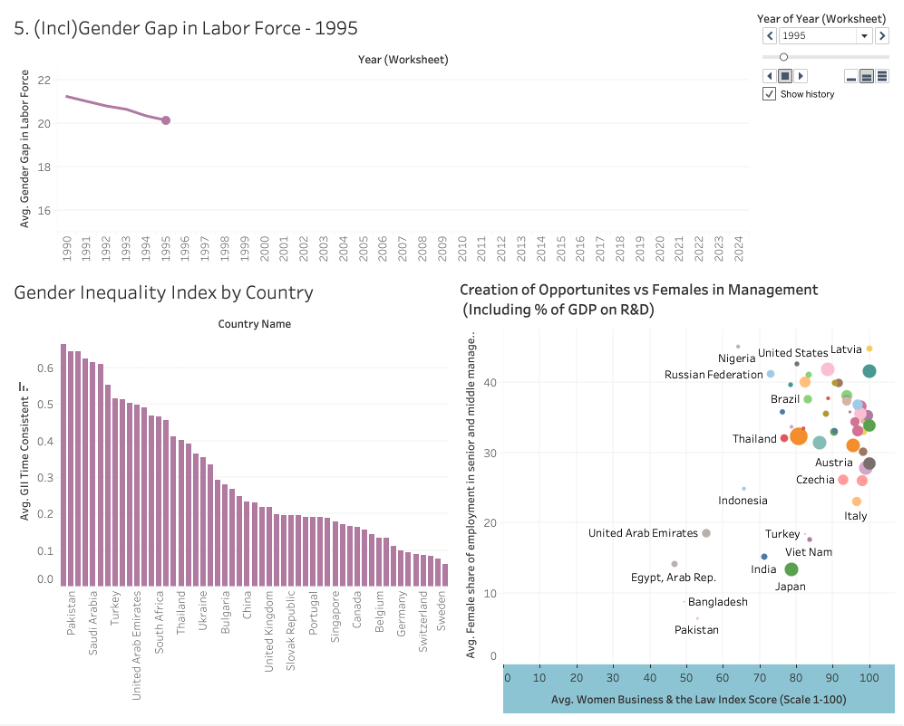

Layout of this report page (visuals, bound fields, positions):
{"tool":"tableau","page":{"name":"Inclusion","canvas":[1000,800],"ordinal":0},"visuals":[{"type":"worksheet","title":"5. (Incl)Gender Gap in Labor Force","mark":"Circle","rows":["Calculation_5399693319061507"],"cols":["Year (Worksheet)"],"box":[8,8,824,292]},{"type":"currpage","title":"5. (Incl)Gender Gap in Labor Force","box":[832,8,160,292]},{"type":"worksheet","title":"6. (Incl)GII by Country","mark":"Automatic","rows":["GII Time Consistent"],"cols":["Country Name"],"box":[8,300,492,492]},{"type":"worksheet","title":"7. (Incl)Bus & Law index vs Females in Man, Including % of GDP on R&D","mark":"Automatic","rows":["Calculation_5399693325979653"],"cols":["Calculation_5399693328379910"],"box":[500,300,492,492]}]}

Visuals, with their boxes in screenshot pixels (x1, y1, x2, y2), scaled from the page's 1000x800 canvas onto the 904x726 screenshot:
"5. (Incl)Gender Gap in Labor Force" worksheet (Circle marks): 7,7,752,272
"5. (Incl)Gender Gap in Labor Force" currpage: 752,7,897,272
"6. (Incl)GII by Country" worksheet: 7,272,452,719
"7. (Incl)Bus & Law index vs Females in Man, Including % of GDP on R&D" worksheet: 452,272,897,719
